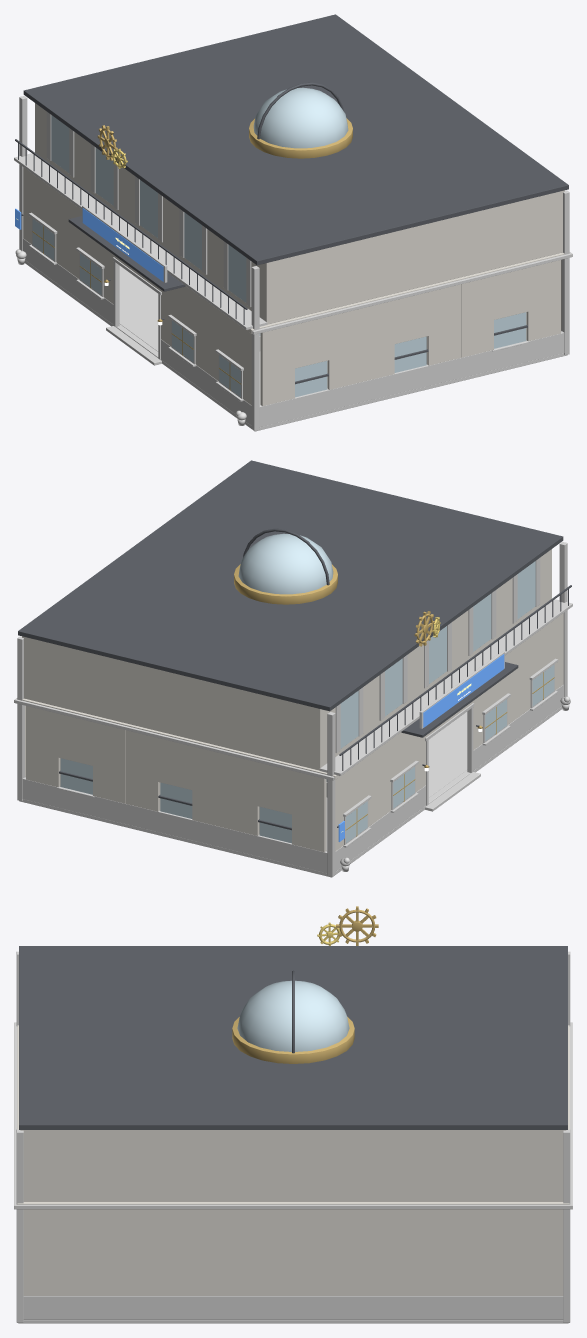
Rendered from SM_House_OpenBox.fbx.
3 views of the same model, one above another, from view 1: azimuth 30°, elevation 25°; view 2: azimuth 150°, elevation 25°; view 3: azimuth 270°, elevation 25° (orthographic). The views are drawn at different scales.
Visible parts, largest first — view 1: Roof_Terrace, F2_RoomBox, Ext_SideR_Low, Ext_FrontR_Up, Dome_GlassCap, Ext_FrontL_Up, F2_BalSlab, Ext_SideR_PierR_2, Ext_SideR_PierL_1, Workshop_BaseSlab, Ext_SideR_PierL_2, Ext_SideR_PierR_0 (+30 smaller); view 2: Roof_Terrace, F2_RoomBox, Ext_SideL_Low, Ext_FrontL_Up, Dome_GlassCap, Ext_FrontR_Up, F2_BalSlab, Ext_SideL_PierR_2, Ext_SideL_PierL_1, Ext_SideL_PierL_0, Ext_SideL_PierL_2, Workshop_BaseSlab (+30 smaller); view 3: Roof_Terrace, Ext_BackUp, F2_RoomBox, Ext_BackLow, Dome_GlassCap, Ext_CorniceGround, Floor2_Slab, Foundation, Dome_BaseRing, Ext_Pilaster_-8.42_-10.92, Ext_Pilaster_-8.42_10.92, Ext_GableGear_Big.001.
Part boxes in pixels (<box>): Roof_Terrace: <box>23,14,568,265</box>; F2_RoomBox: <box>35,103,564,324</box>; Ext_SideR_Low: <box>259,331,564,426</box>; Ext_FrontR_Up: <box>160,286,251,405</box>; Dome_GlassCap: <box>253,87,348,148</box>; Ext_FrontL_Up: <box>23,167,114,304</box>; F2_BalSlab: <box>14,153,267,329</box>; Ext_SideR_PierR_2: <box>261,325,294,406</box>; Ext_SideR_PierL_1: <box>427,284,461,365</box>; Workshop_BaseSlab: <box>119,266,260,404</box>; Ext_SideR_PierL_2: <box>328,308,361,389</box>; Ext_SideR_PierR_0: <box>461,276,493,357</box>; Roof_Terrace: <box>18,460,563,711</box>; F2_RoomBox: <box>22,549,551,770</box>; Ext_SideL_Low: <box>22,777,327,872</box>; Ext_FrontL_Up: <box>335,732,426,851</box>; Dome_GlassCap: <box>238,533,333,594</box>; Ext_FrontR_Up: <box>472,613,563,750</box>; F2_BalSlab: <box>319,599,572,775</box>; Ext_SideL_PierR_2: <box>292,771,325,852</box>; Ext_SideL_PierL_1: <box>125,730,159,811</box>; Ext_SideL_PierL_0: <box>26,706,59,787</box>; Ext_SideL_PierL_2: <box>225,754,258,835</box>; Workshop_BaseSlab: <box>326,712,467,850</box>; Roof_Terrace: <box>19,946,567,1129</box>; Ext_BackUp: <box>23,1209,563,1295</box>; F2_RoomBox: <box>20,1130,566,1201</box>; Ext_BackLow: <box>23,1296,563,1319</box>; Dome_GlassCap: <box>237,980,349,1051</box>; Ext_CorniceGround: <box>14,1022,572,1209</box>; Floor2_Slab: <box>17,1025,569,1204</box>; Foundation: <box>18,1320,568,1323</box>; Dome_BaseRing: <box>232,1017,354,1063</box>; Ext_Pilaster_-8.42_-10.92: <box>563,1129,570,1322</box>; Ext_Pilaster_-8.42_10.92: <box>16,1129,23,1322</box>; Ext_GableGear_Big.001: <box>336,906,378,945</box>.
Size of the model in its own units: 18.34 by 11.54 by 22.34.
